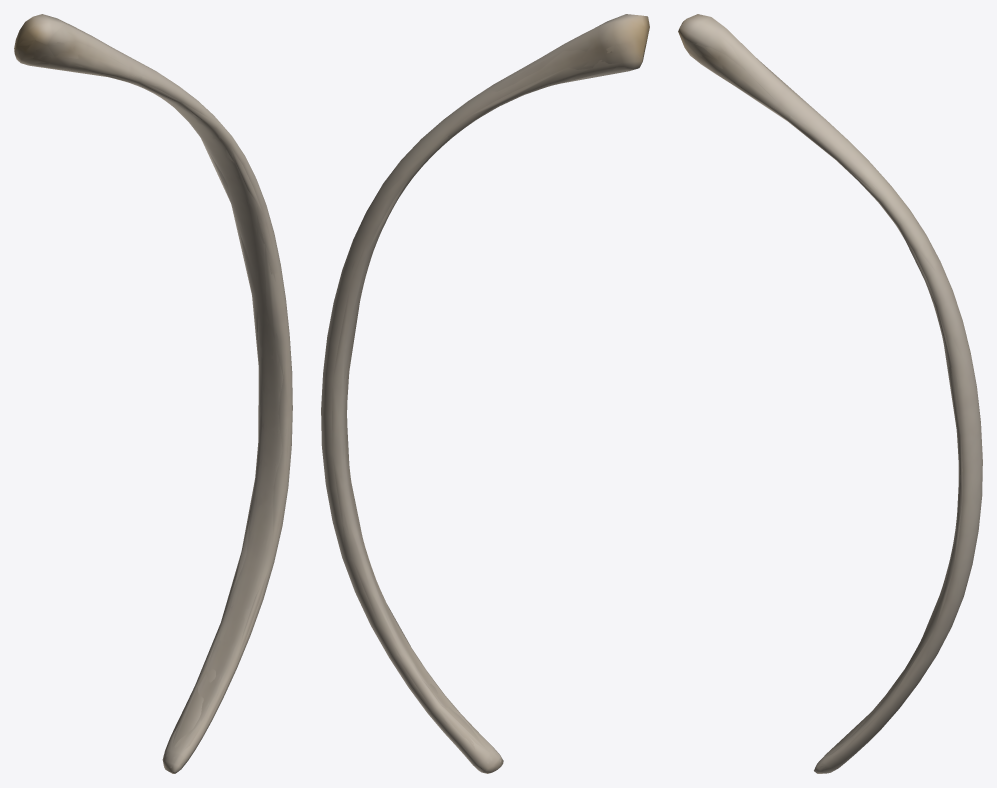
File: Rib L10.fbx
The picture shows the model from 3 angles, left to right: view 1: azimuth 30°, elevation 25°; view 2: azimuth 150°, elevation 25°; view 3: azimuth 330°, elevation 25°; orthographic projection. The views are drawn at different scales.
Visible parts, largest first — view 1: Rib L10, Rib L10 high, Rib L10 low; view 2: Rib L10, Rib L10 low, Rib L10 high; view 3: Rib L10, Rib L10 low, Rib L10 high.
Boxes of the visible parts, bbox=[...] form: Rib L10: bbox=[14, 14, 292, 773]; Rib L10 high: bbox=[19, 24, 290, 768]; Rib L10 low: bbox=[17, 15, 292, 768]; Rib L10: bbox=[321, 14, 649, 773]; Rib L10 low: bbox=[321, 16, 649, 772]; Rib L10 high: bbox=[330, 27, 643, 763]; Rib L10: bbox=[678, 14, 982, 773]; Rib L10 low: bbox=[678, 14, 977, 767]; Rib L10 high: bbox=[691, 35, 981, 769].
Size of the model in its own units: 7.42 by 18.82 by 2.17.
1 material, 1 textured.
